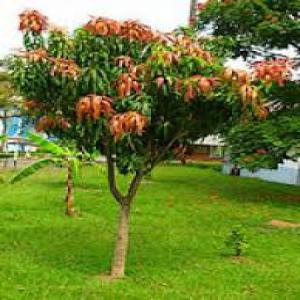Tree: (12, 5, 272, 276)
